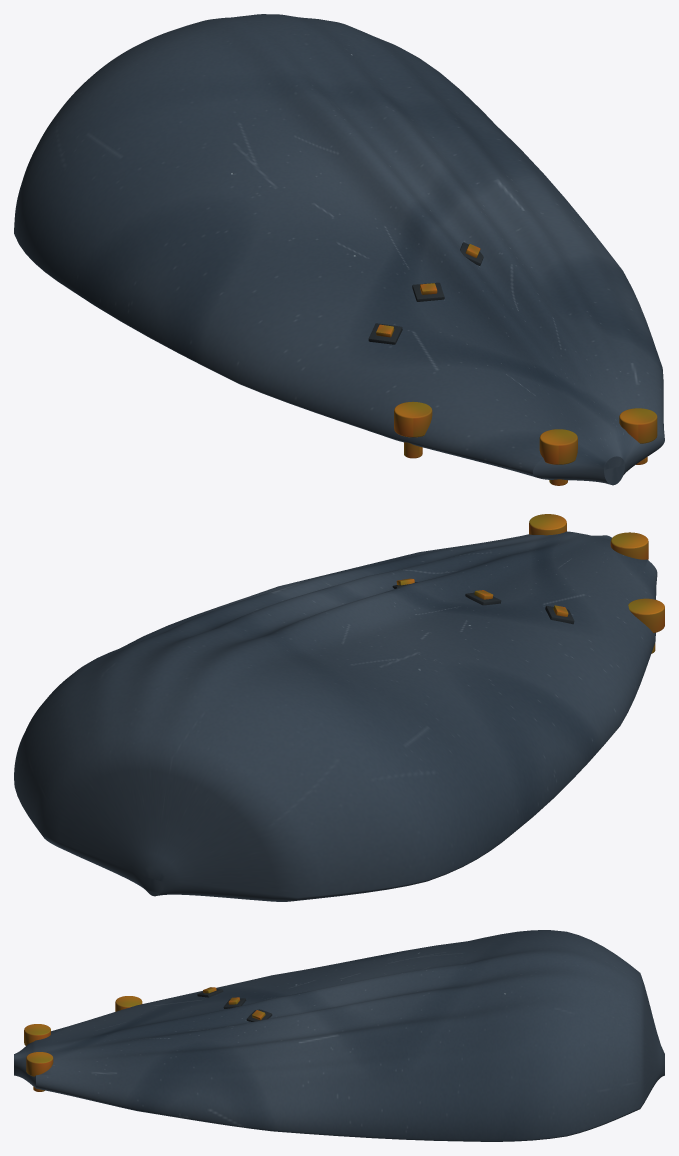
The picture shows the model from 3 angles, top to bottom: view 1: azimuth 30°, elevation 25°; view 2: azimuth 150°, elevation 25°; view 3: azimuth 270°, elevation 25°; orthographic projection. The views are drawn at different scales.
Parts seen in each view (by area): view 1: Gravitic Converter integrated ribbed slate wedge, Gravitic Converter wider brass cap 1, Gravitic Converter wider brass cap 0, Gravitic Converter wider brass cap 2; view 2: Gravitic Converter integrated ribbed slate wedge, Gravitic Converter wider brass cap 0, Gravitic Converter wider brass cap 1, Gravitic Converter wider brass cap 2; view 3: Gravitic Converter integrated ribbed slate wedge, Gravitic Converter wider brass cap 2, Gravitic Converter wider brass cap 1.
Boxes of the visible parts, bbox=[...] form: Gravitic Converter integrated ribbed slate wedge: bbox=[14, 14, 664, 485]; Gravitic Converter wider brass cap 1: bbox=[539, 429, 577, 464]; Gravitic Converter wider brass cap 0: bbox=[394, 401, 432, 437]; Gravitic Converter wider brass cap 2: bbox=[619, 408, 657, 443]; Gravitic Converter integrated ribbed slate wedge: bbox=[14, 531, 657, 901]; Gravitic Converter wider brass cap 0: bbox=[628, 598, 664, 632]; Gravitic Converter wider brass cap 1: bbox=[610, 532, 648, 559]; Gravitic Converter wider brass cap 2: bbox=[529, 514, 566, 535]; Gravitic Converter integrated ribbed slate wedge: bbox=[14, 930, 664, 1141]; Gravitic Converter wider brass cap 2: bbox=[26, 1052, 53, 1076]; Gravitic Converter wider brass cap 1: bbox=[24, 1024, 50, 1045].
Bounding box in the file's own units: 1.51 × 0.5612 × 2.65.
Materials: 4 (3 with a texture image).
